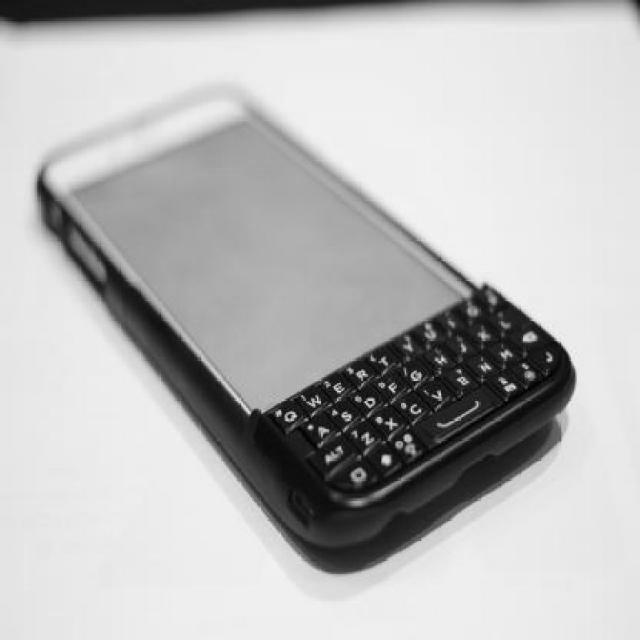fake: (36, 80, 579, 583)
